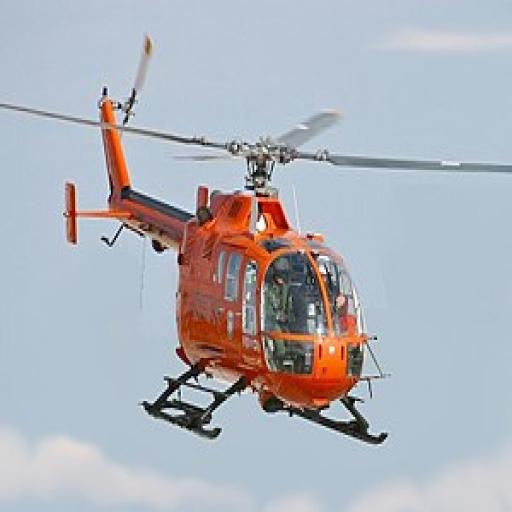helicopter: (3, 35, 511, 452)
